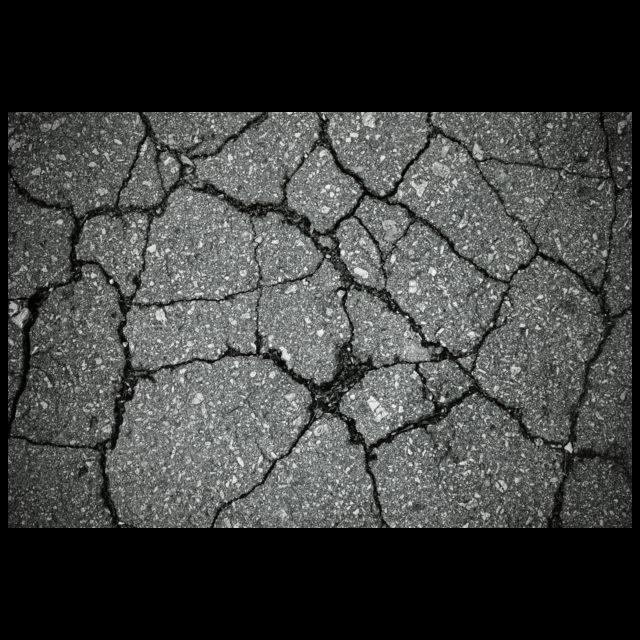retak_kulit_buaya: (8, 112, 632, 528)
